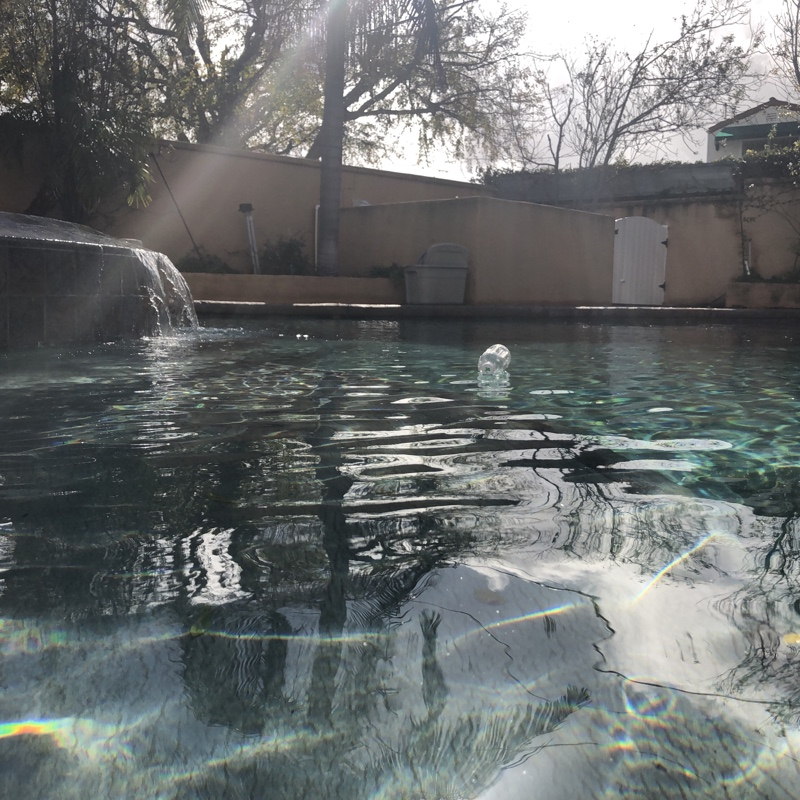Plastic Bottle: (474, 342, 514, 377)
